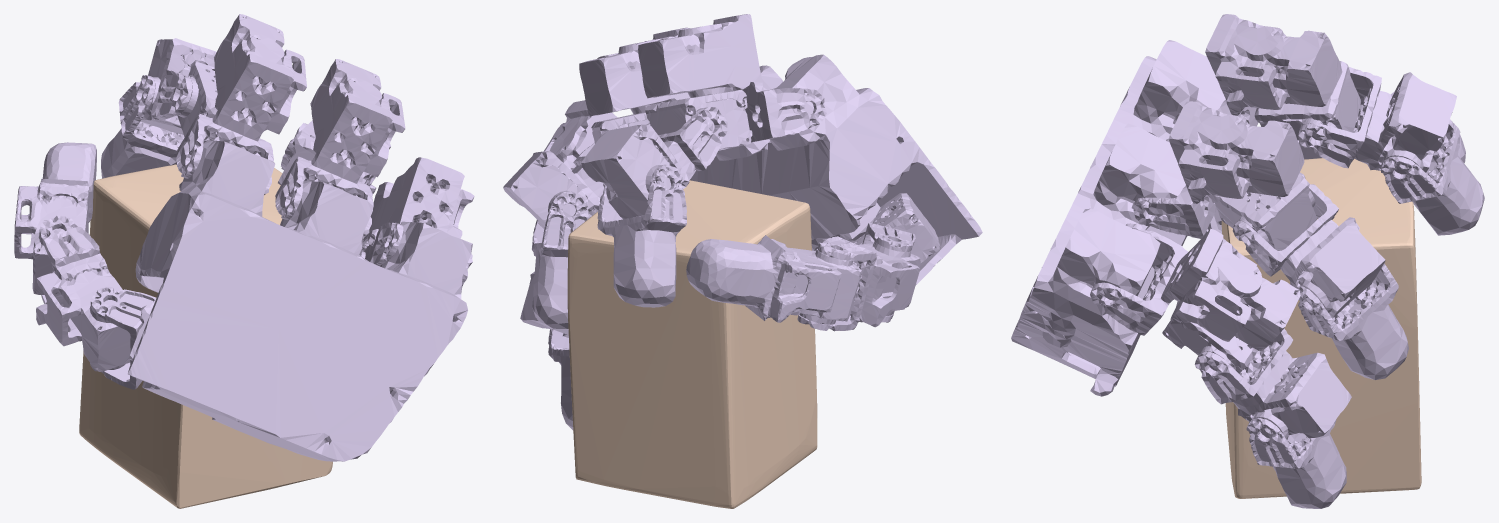
File: a2915cd092cbf9-closed.glb
3 views of the same model, side by side, from view 1: azimuth 30°, elevation 25°; view 2: azimuth 150°, elevation 25°; view 3: azimuth 270°, elevation 25° (orthographic). The views are drawn at different scales.
Visible parts, largest first — view 1: LEAP_hand, world; view 2: LEAP_hand, world; view 3: LEAP_hand, world.
Part boxes in pixels (bbox=[...]): LEAP_hand: bbox=[14, 14, 474, 461]; world: bbox=[79, 164, 332, 508]; LEAP_hand: bbox=[503, 14, 982, 430]; world: bbox=[567, 180, 817, 508]; LEAP_hand: bbox=[1011, 14, 1484, 508]; world: bbox=[1221, 158, 1421, 498].
Bounding box in the file's own units: 0.1848 × 0.1963 × 0.1898.
